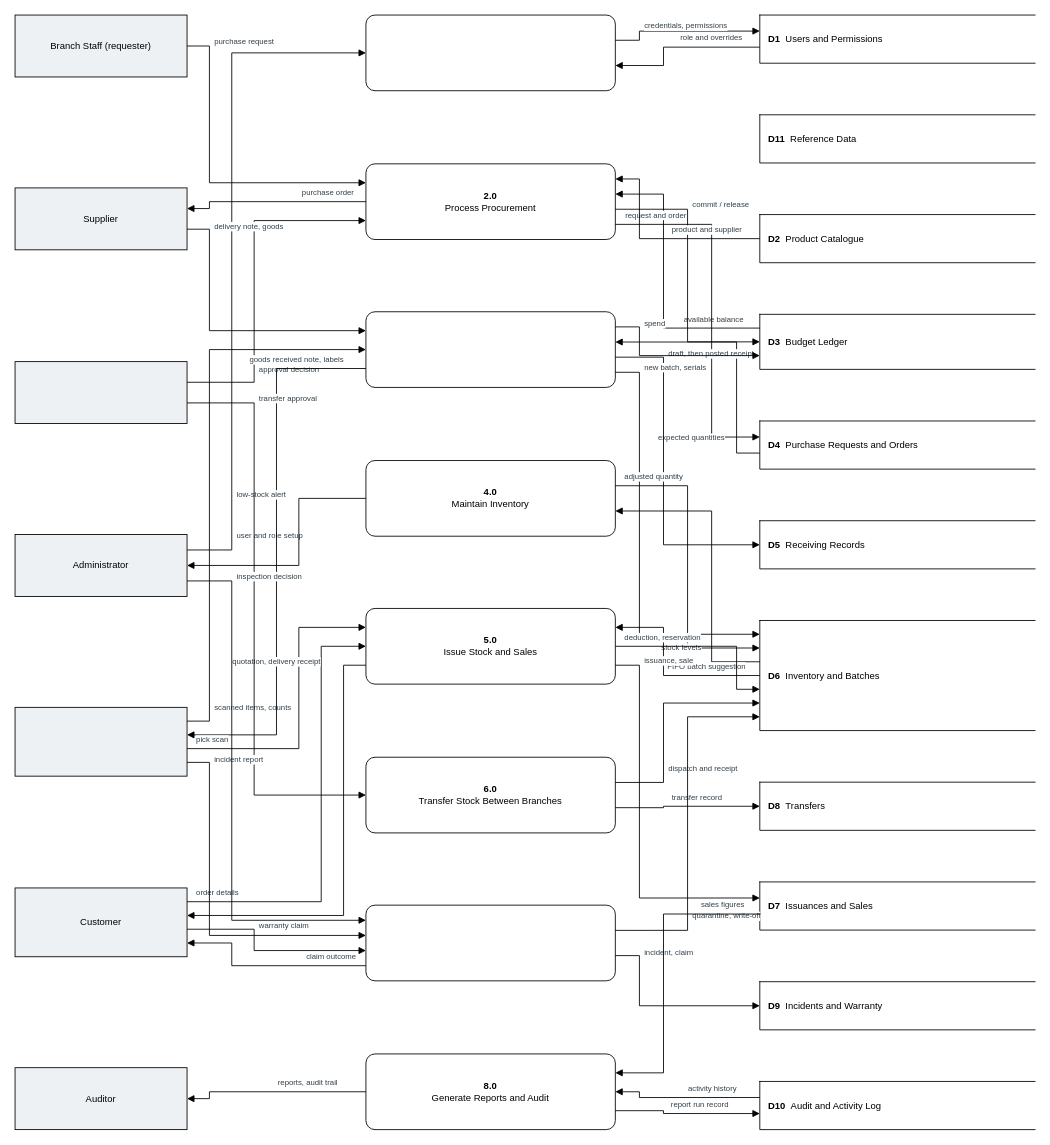
Some shapes in this 1050 by 1145 pixel diagram are drawn without their labels. The centre of each missing label's shape, as x and y in pixels:
1.0 Manage Users and Access: point (490, 52)
3.0 Receive Deliveries: point (490, 349)
7.0 Handle Incidents and Warranty: point (490, 942)
Branch Manager: point (100, 392)
Warehouse Personnel: point (100, 741)
